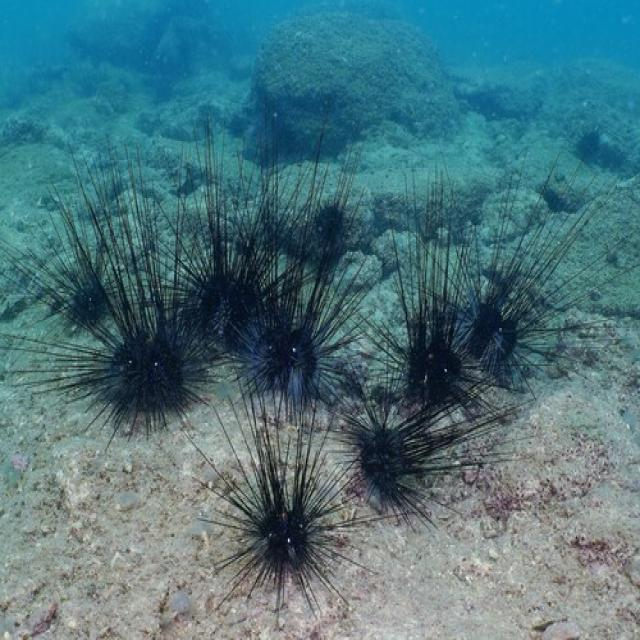Urchin: (31, 150, 216, 424), (418, 152, 620, 393), (187, 390, 374, 614), (352, 171, 489, 434), (240, 117, 354, 417), (333, 377, 532, 529), (171, 117, 283, 361), (10, 147, 131, 336), (270, 138, 365, 283)
